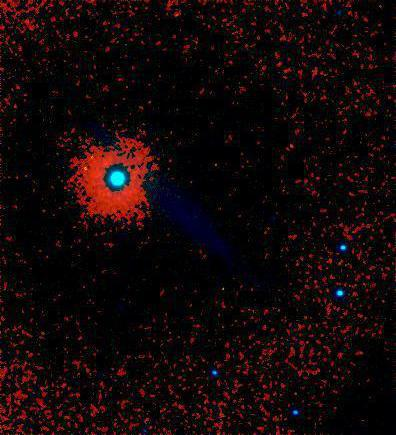star: (277, 133, 307, 163)
